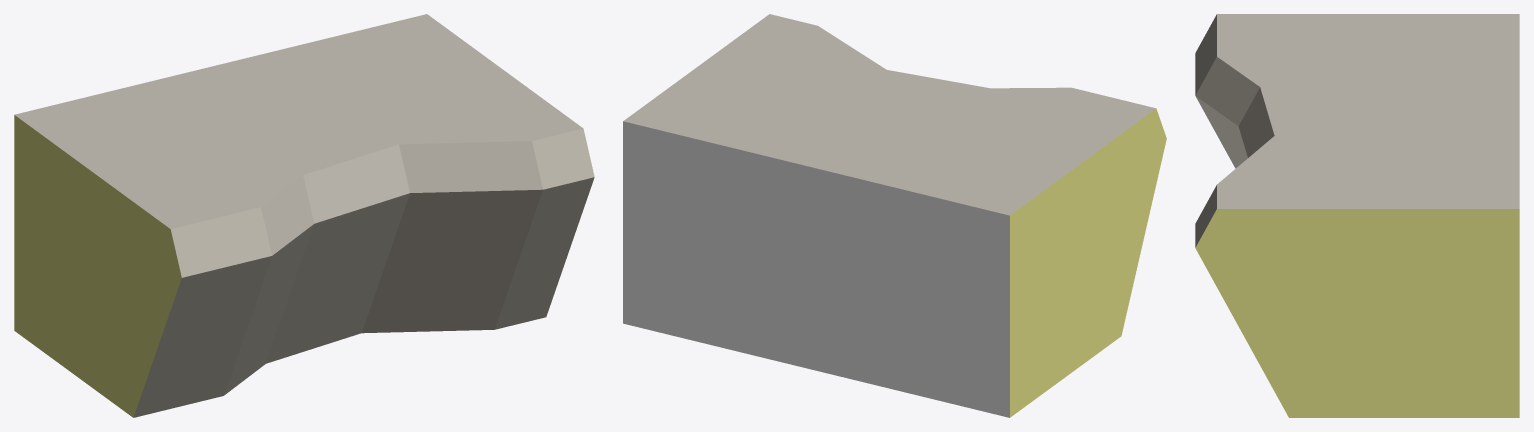
Rendered from Cracked_Straight_2x2_3_Top.glb.
The picture shows the model from 3 angles, left to right: view 1: azimuth 30°, elevation 25°; view 2: azimuth 150°, elevation 25°; view 3: azimuth 270°, elevation 25°; orthographic projection. The views are drawn at different scales.
Visible parts, largest first — view 1: Cracked_Straight_2x2_3_Top; view 2: Cracked_Straight_2x2_3_Top; view 3: Cracked_Straight_2x2_3_Top.
Boxes of the visible parts, box(x1,y1,x2,y2) form: Cracked_Straight_2x2_3_Top: box(14, 14, 594, 417); Cracked_Straight_2x2_3_Top: box(623, 14, 1166, 417); Cracked_Straight_2x2_3_Top: box(1195, 14, 1519, 417).
Bounding box in the file's own units: 200 × 100 × 141.
